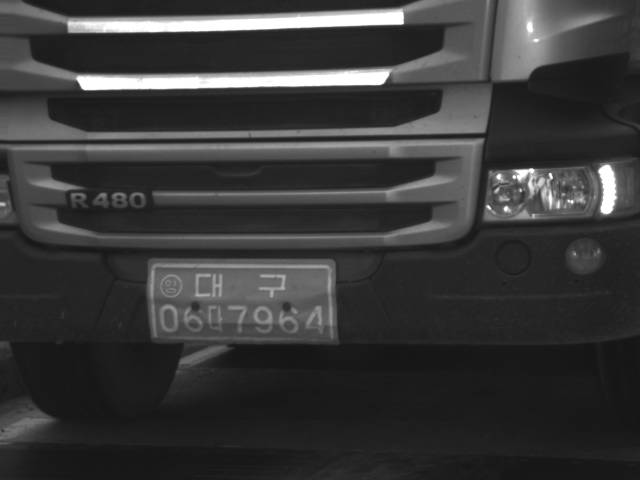car: (1, 1, 637, 423)
plate: (145, 257, 342, 347)
